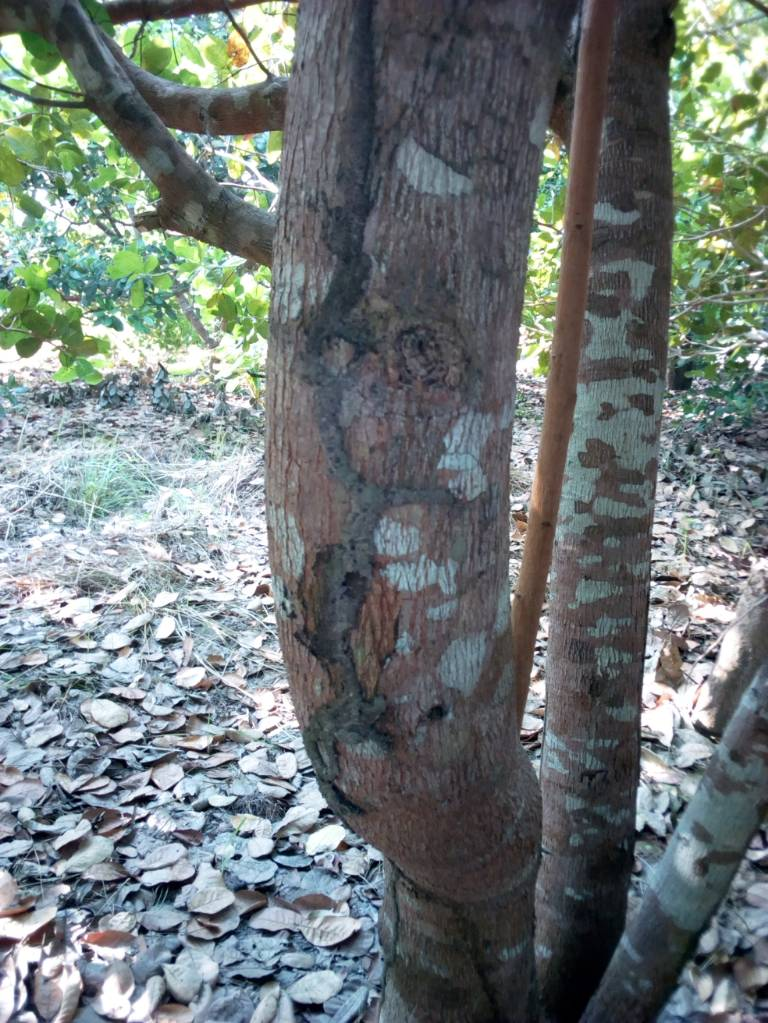Termites: (308, 3, 457, 817)
